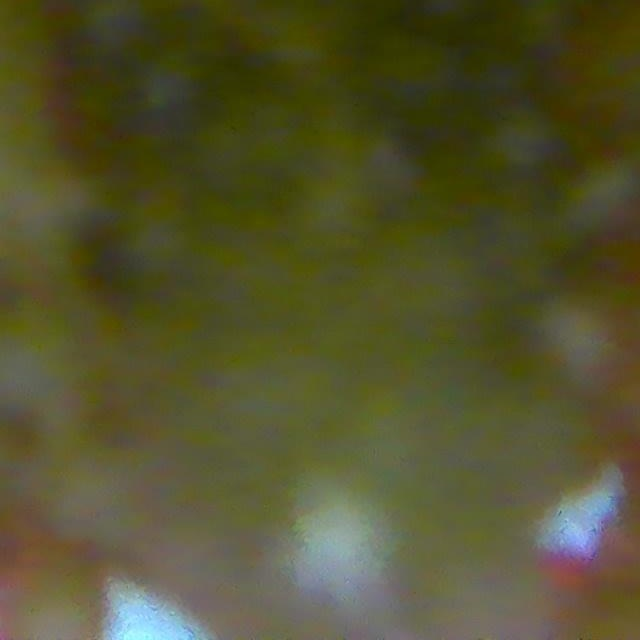SeaGrape: (0, 304, 110, 453), (0, 556, 110, 639), (53, 464, 150, 553), (539, 298, 627, 391), (564, 152, 640, 240), (486, 106, 566, 180)
